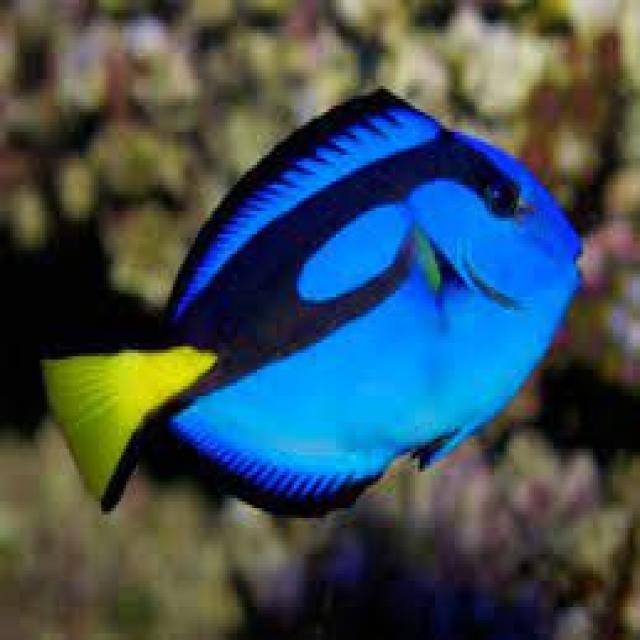BlueTang: (52, 90, 584, 513)
